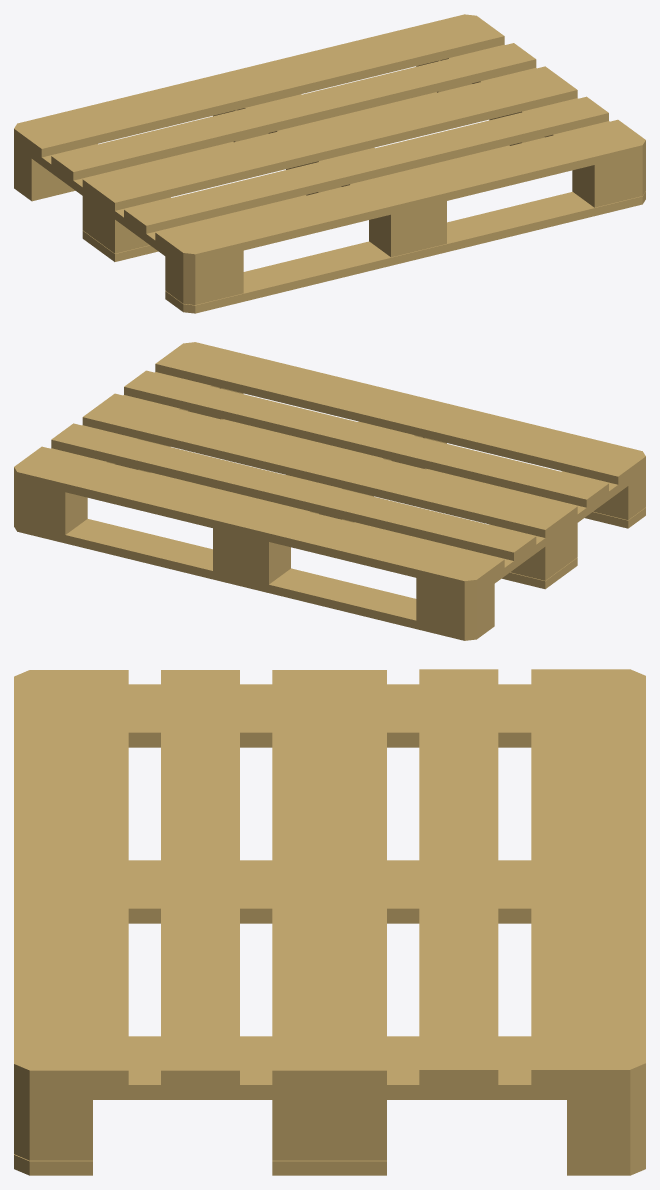
Rendered from palette.dae.
The picture shows the model from 3 angles, top to bottom: view 1: azimuth 30°, elevation 25°; view 2: azimuth 150°, elevation 25°; view 3: azimuth 270°, elevation 25°; orthographic projection. The views are drawn at different scales.
Visible parts, largest first — view 1: Group1, Group3, Group5, Group2, Group4, Group20, Group14, Group10, Group7, Group12, Group9, Group13 (+4 smaller); view 2: Group1, Group3, Group5, Group2, Group4, Group18, Group13, Group17, Group7, Group11, Group9, Group14 (+4 smaller); view 3: Group1, Group3, Group5, Group2, Group4, Group6, Group7, Group8, Group16, Group11, Group12, Group19 (+2 smaller).
Part boxes in pixels (box(x1,y1,x2,y2)): Group1: box(14, 14, 504, 157); Group3: box(82, 66, 577, 210); Group5: box(155, 119, 645, 262); Group2: box(51, 43, 536, 180); Group4: box(124, 96, 608, 233); Group20: box(165, 191, 645, 313); Group14: box(165, 256, 243, 304); Group10: box(369, 209, 446, 257); Group7: box(14, 137, 243, 270); Group12: box(572, 157, 645, 207); Group9: box(82, 196, 149, 253); Group13: box(14, 146, 66, 192); Group1: box(14, 446, 504, 589); Group3: box(82, 393, 577, 537); Group5: box(155, 342, 645, 484); Group2: box(51, 423, 536, 560); Group4: box(124, 370, 608, 507); Group18: box(14, 518, 494, 640); Group13: box(416, 584, 494, 632); Group17: box(213, 537, 290, 584); Group7: box(416, 464, 645, 597); Group11: box(14, 484, 87, 534); Group9: box(510, 523, 577, 580); Group14: box(593, 473, 645, 519); Group1: box(531, 669, 645, 1084); Group3: box(272, 670, 386, 1084); Group5: box(14, 670, 128, 1084); Group2: box(419, 669, 498, 1084); Group4: box(161, 670, 239, 1084); Group6: box(14, 1036, 645, 1099); Group7: box(128, 684, 531, 747); Group8: box(128, 860, 531, 923); Group16: box(272, 1100, 386, 1160); Group11: box(567, 1093, 645, 1160); Group12: box(14, 1093, 92, 1160); Group19: box(272, 1160, 386, 1175).
Bounding box in the file's own units: 1.2 × 0.8 × 0.148.
